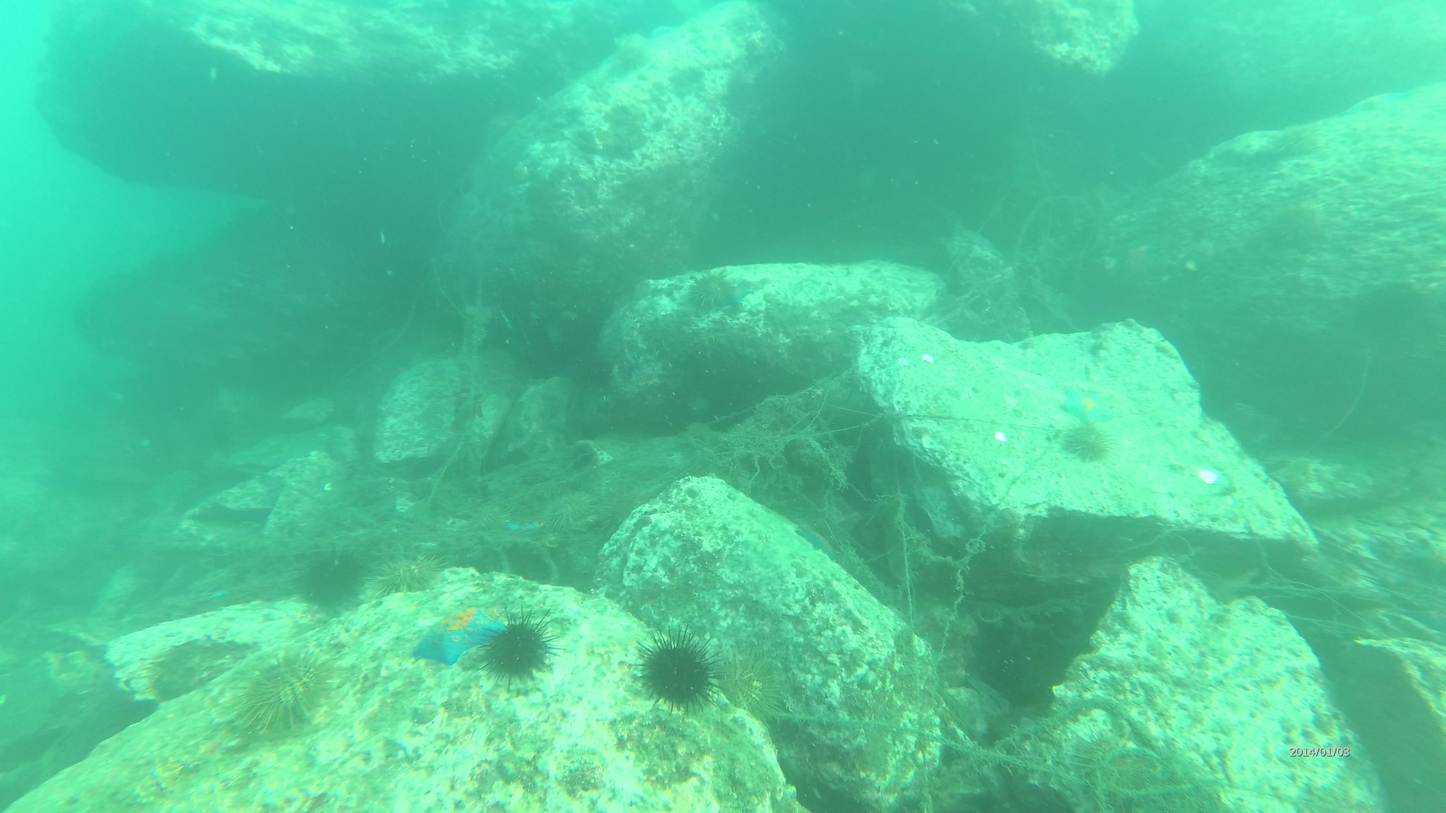holothurian: (419, 607, 508, 667), (1059, 385, 1111, 426)
starfish: (240, 660, 338, 741), (642, 640, 714, 708), (489, 619, 554, 677), (302, 547, 365, 606), (380, 556, 436, 600), (690, 269, 737, 314), (1066, 424, 1105, 461)
